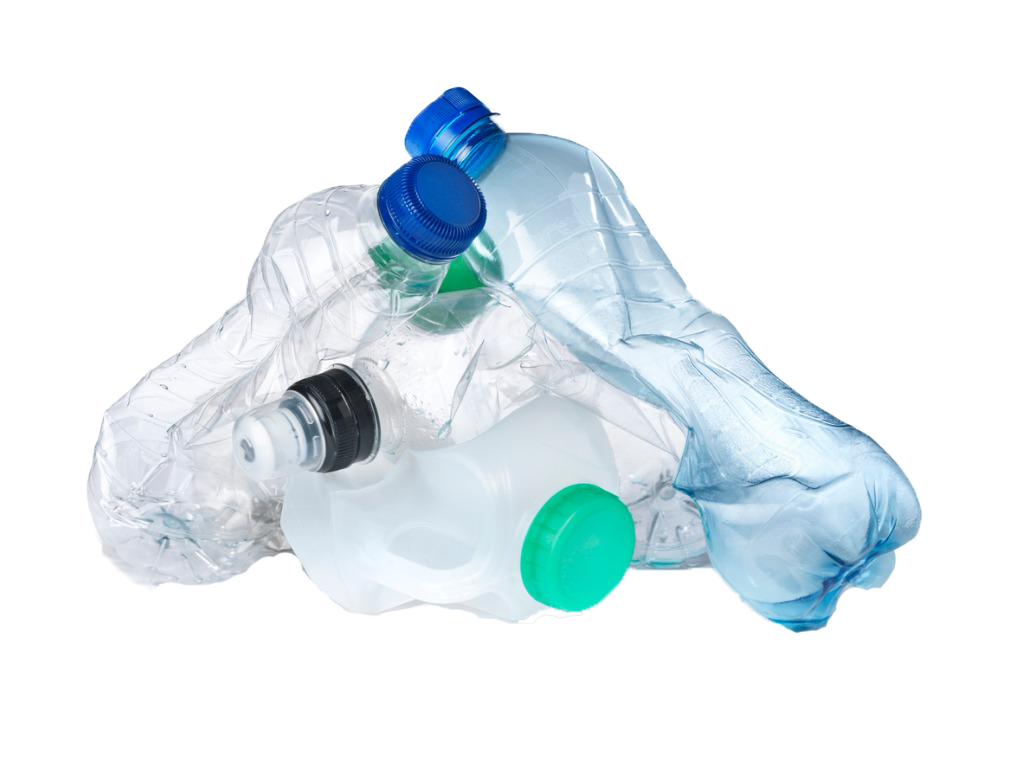plastic_bottle: (333, 47, 996, 692), (180, 243, 942, 726), (8, 138, 560, 629), (220, 356, 764, 747)
